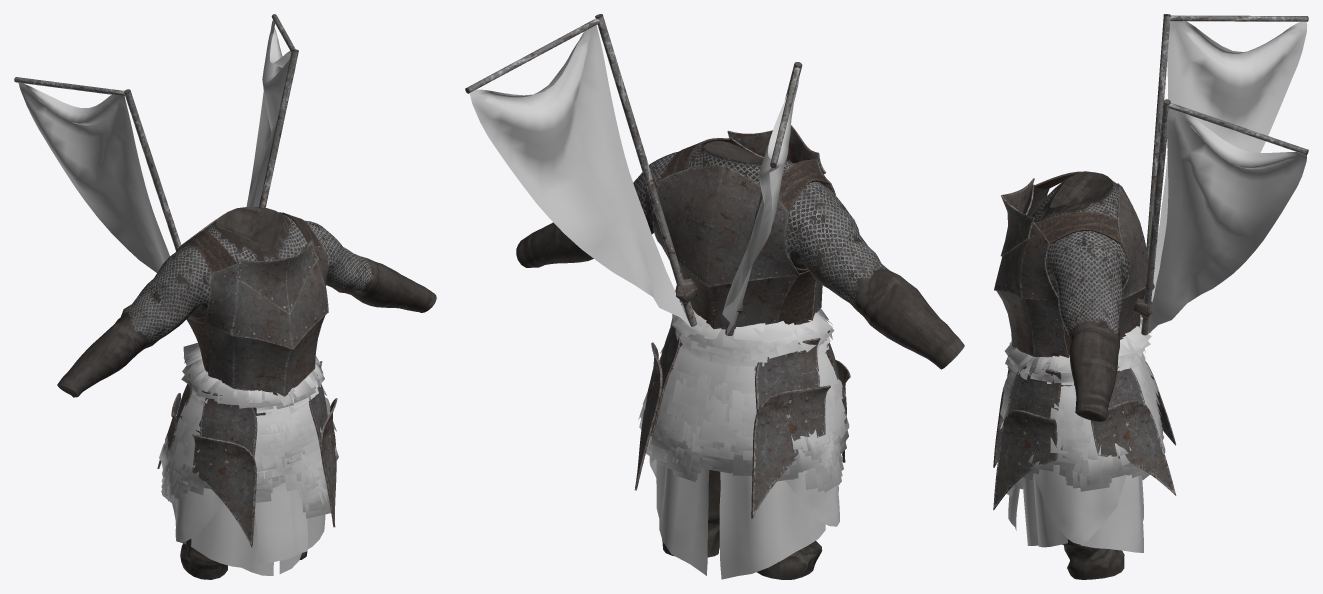
The model's file is sk_gb_uruk_chest_lord_a.fbx.
The picture shows the model from 3 angles, left to right: view 1: azimuth 30°, elevation 25°; view 2: azimuth 150°, elevation 25°; view 3: azimuth 270°, elevation 25°; orthographic projection. The views are drawn at different scales.
Parts seen in each view (by area): view 1: sk_gb_uruk_chest_lord_a.base.2, sk_gb_uruk_chest_lord_a.base.1, sk_gb_uruk_chest_lord_a.prop.1, sk_gb_uruk_chest_lord_a.skirt.2, sk_gb_uruk_chest_lord_a.skirt.1, sk_gb_uruk_chest_lord_a.prop.0, sk_gb_uruk_chest_lord_a.base.0; view 2: sk_gb_uruk_chest_lord_a.base.2, sk_gb_uruk_chest_lord_a.prop.1, sk_gb_uruk_chest_lord_a.skirt.2, sk_gb_uruk_chest_lord_a.base.1, sk_gb_uruk_chest_lord_a.skirt.1, sk_gb_uruk_chest_lord_a.prop.0, sk_gb_uruk_chest_lord_a.base.0; view 3: sk_gb_uruk_chest_lord_a.prop.1, sk_gb_uruk_chest_lord_a.base.2, sk_gb_uruk_chest_lord_a.base.1, sk_gb_uruk_chest_lord_a.skirt.2, sk_gb_uruk_chest_lord_a.skirt.1, sk_gb_uruk_chest_lord_a.prop.0, sk_gb_uruk_chest_lord_a.base.0.
Part boxes in pixels (x1,y1,x2,y2): sk_gb_uruk_chest_lord_a.base.2: (157, 212, 337, 547); sk_gb_uruk_chest_lord_a.base.1: (57, 207, 436, 397); sk_gb_uruk_chest_lord_a.prop.1: (18, 20, 295, 272); sk_gb_uruk_chest_lord_a.skirt.2: (159, 343, 338, 518); sk_gb_uruk_chest_lord_a.skirt.1: (172, 482, 325, 575); sk_gb_uruk_chest_lord_a.prop.0: (14, 14, 298, 250); sk_gb_uruk_chest_lord_a.base.0: (180, 539, 307, 579); sk_gb_uruk_chest_lord_a.base.2: (634, 125, 850, 518); sk_gb_uruk_chest_lord_a.prop.1: (469, 25, 799, 336); sk_gb_uruk_chest_lord_a.skirt.2: (638, 300, 849, 492); sk_gb_uruk_chest_lord_a.base.1: (516, 141, 964, 369); sk_gb_uruk_chest_lord_a.skirt.1: (649, 456, 839, 579); sk_gb_uruk_chest_lord_a.prop.0: (465, 14, 802, 335); sk_gb_uruk_chest_lord_a.base.0: (662, 470, 822, 579); sk_gb_uruk_chest_lord_a.prop.1: (1148, 21, 1307, 333); sk_gb_uruk_chest_lord_a.base.2: (993, 171, 1176, 510); sk_gb_uruk_chest_lord_a.base.1: (1031, 172, 1128, 421); sk_gb_uruk_chest_lord_a.skirt.2: (1000, 317, 1165, 496); sk_gb_uruk_chest_lord_a.skirt.1: (1008, 465, 1143, 552); sk_gb_uruk_chest_lord_a.prop.0: (1133, 14, 1308, 335); sk_gb_uruk_chest_lord_a.base.0: (1062, 539, 1124, 579).
Size of the model in its own units: 1.35 by 0.9308 by 1.61.
